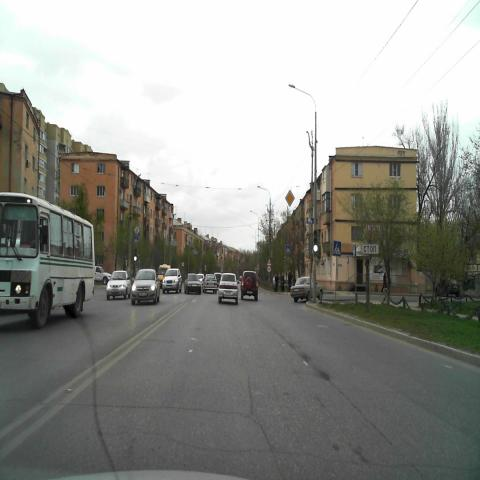2_1: (284, 189, 294, 209)
